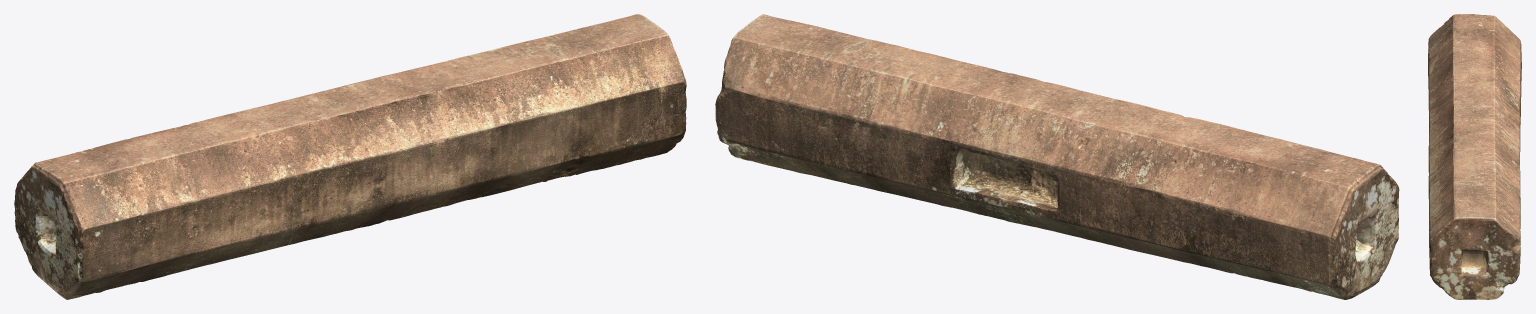
File: 26_MysonSanctuaryB_Trucot_final.glb
The picture shows the model from 3 angles, left to right: view 1: azimuth 30°, elevation 25°; view 2: azimuth 150°, elevation 25°; view 3: azimuth 270°, elevation 25°; orthographic projection. The views are drawn at different scales.
Size of the model in its own units: 2.53 by 0.4797 by 0.4879.
1 material, 1 textured.
